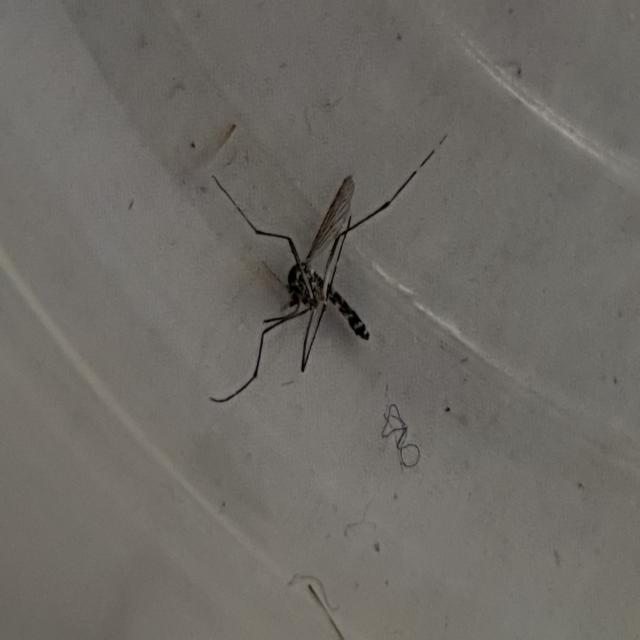albopictus: (202, 117, 437, 411)
